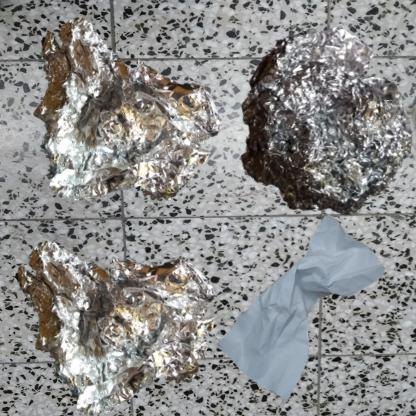aluminio: (10, 10, 243, 235), (213, 10, 416, 249), (10, 213, 236, 416)
papel: (213, 213, 388, 409)
